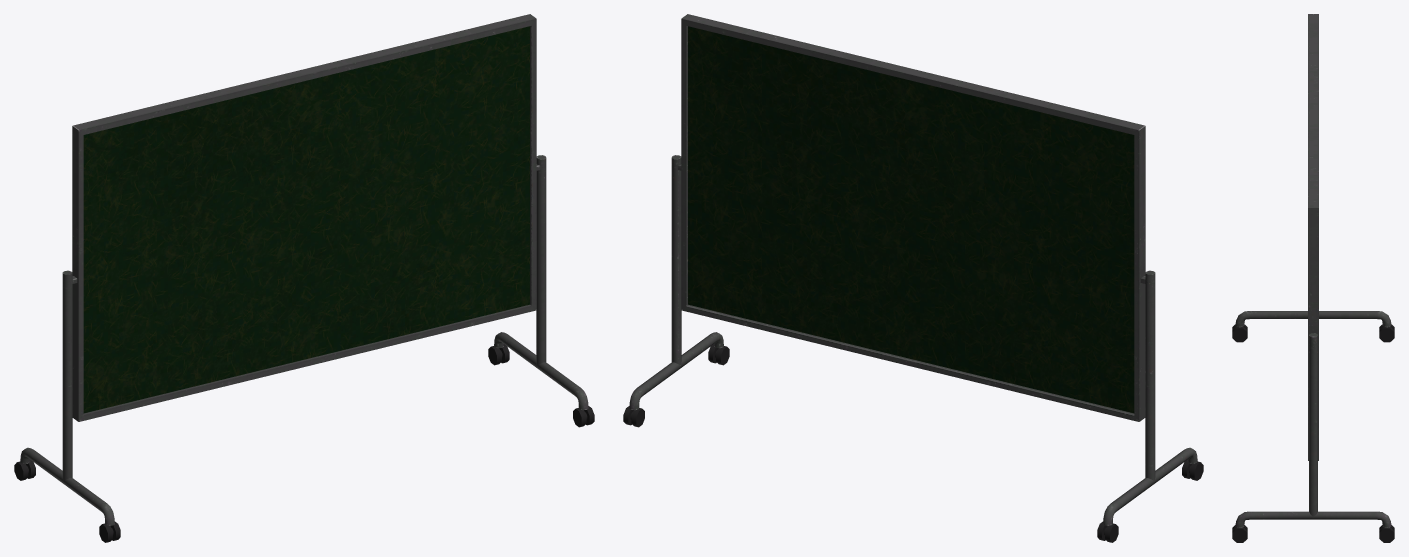
The model's file is board.glb.
3 views of the same model, side by side, from view 1: azimuth 30°, elevation 25°; view 2: azimuth 150°, elevation 25°; view 3: azimuth 270°, elevation 25° (orthographic). The views are drawn at different scales.
Visible parts, largest first — view 1: wordboard_mdl_01; view 2: wordboard_mdl_01; view 3: wordboard_mdl_01.
Part boxes in pixels (x1,y1,x2,y2): wordboard_mdl_01: [14, 14, 594, 542]; wordboard_mdl_01: [623, 14, 1203, 542]; wordboard_mdl_01: [1232, 14, 1394, 542].
Size of the model in its own units: 3.62 by 2.69 by 1.21.
Materials: 1 (1 with a texture image).
